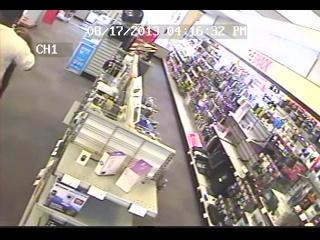Normal: (0, 12, 37, 98)
